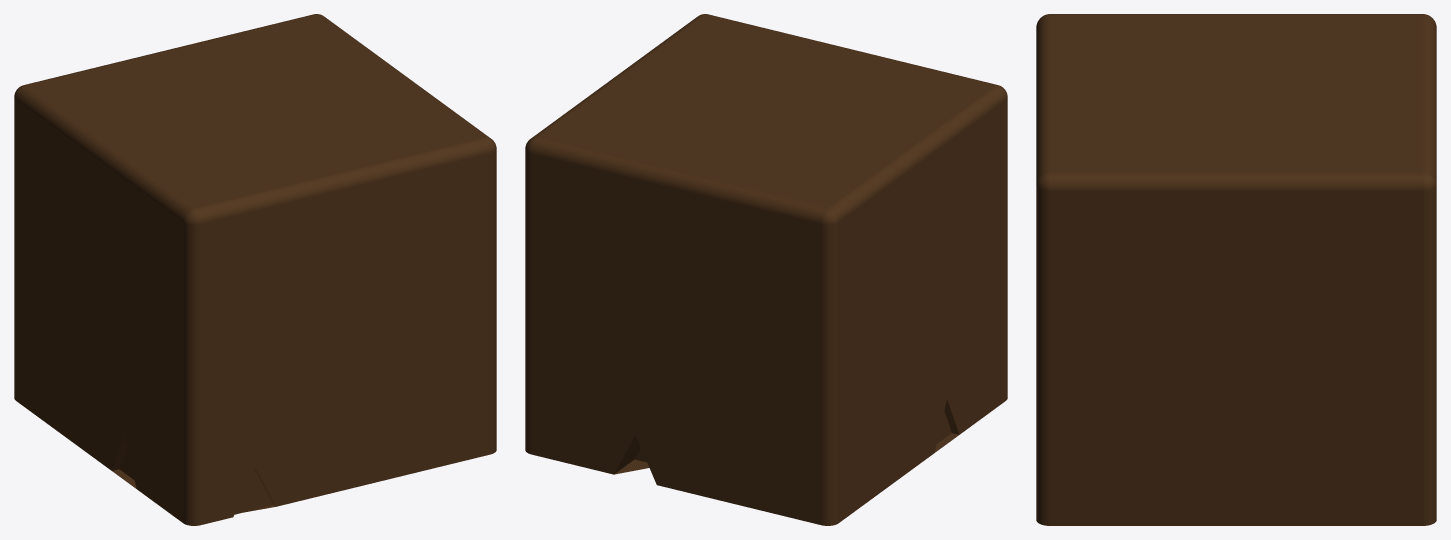
The model's file is DefaultPantsRightLeg.fbx.
The picture shows the model from 3 angles, left to right: view 1: azimuth 30°, elevation 25°; view 2: azimuth 150°, elevation 25°; view 3: azimuth 270°, elevation 25°; orthographic projection. The views are drawn at different scales.
Visible parts, largest first — view 1: Upper Right Leg.001; view 2: Upper Right Leg.001; view 3: Upper Right Leg.001.
Boxes of the visible parts, <box> form: Upper Right Leg.001: <box>14,14,496,525</box>; Upper Right Leg.001: <box>525,14,1007,525</box>; Upper Right Leg.001: <box>1036,14,1436,525</box>.
Size of the model in its own units: 101 by 96.57 by 101.
